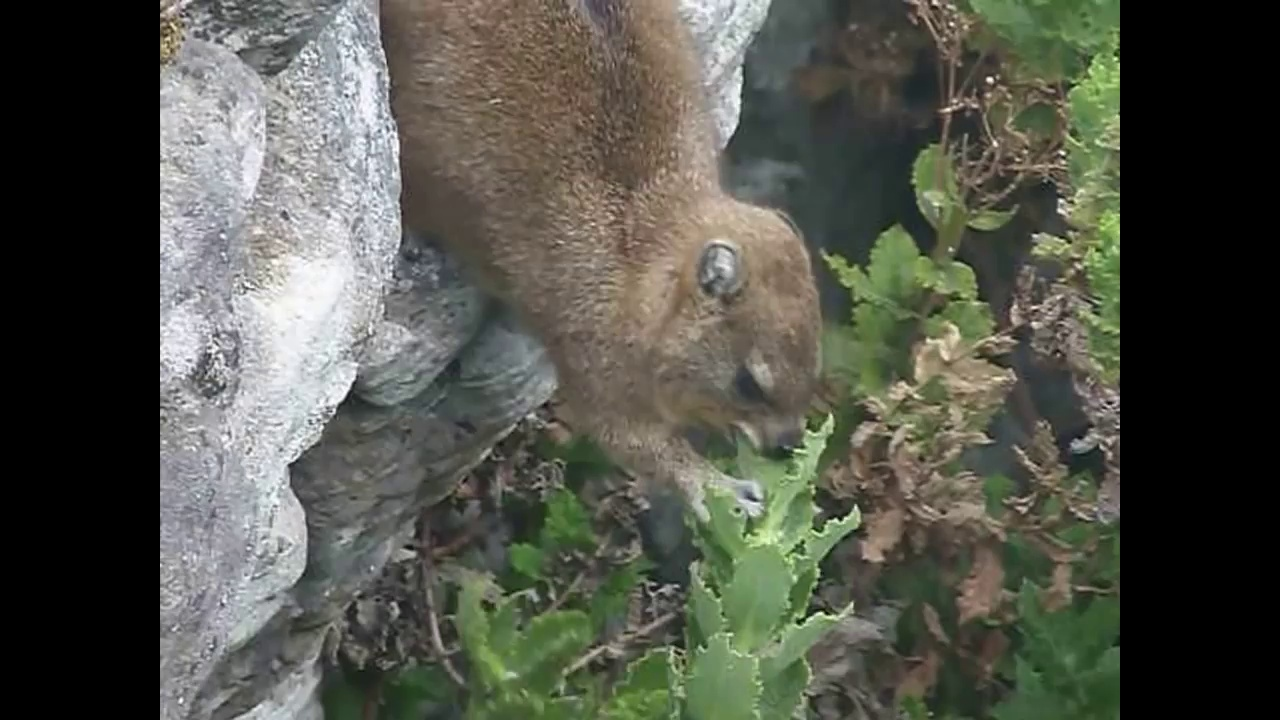Rock Hyrex: (382, 1, 821, 531)
